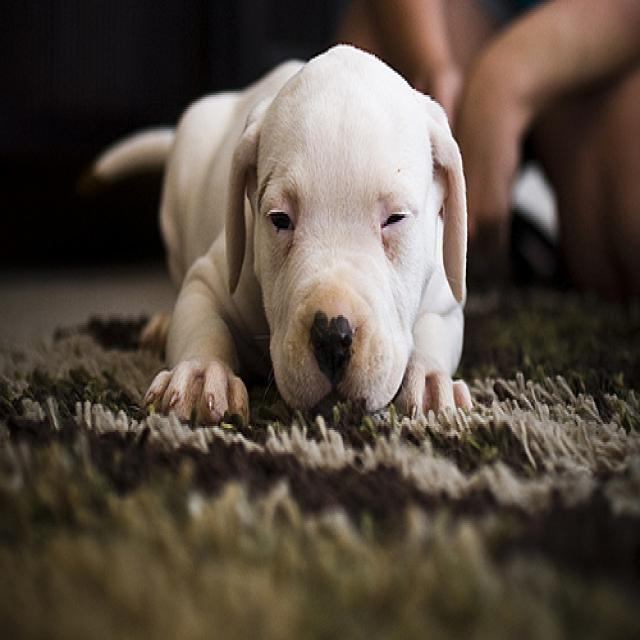dog-american_bulldog: (86, 30, 479, 436)
